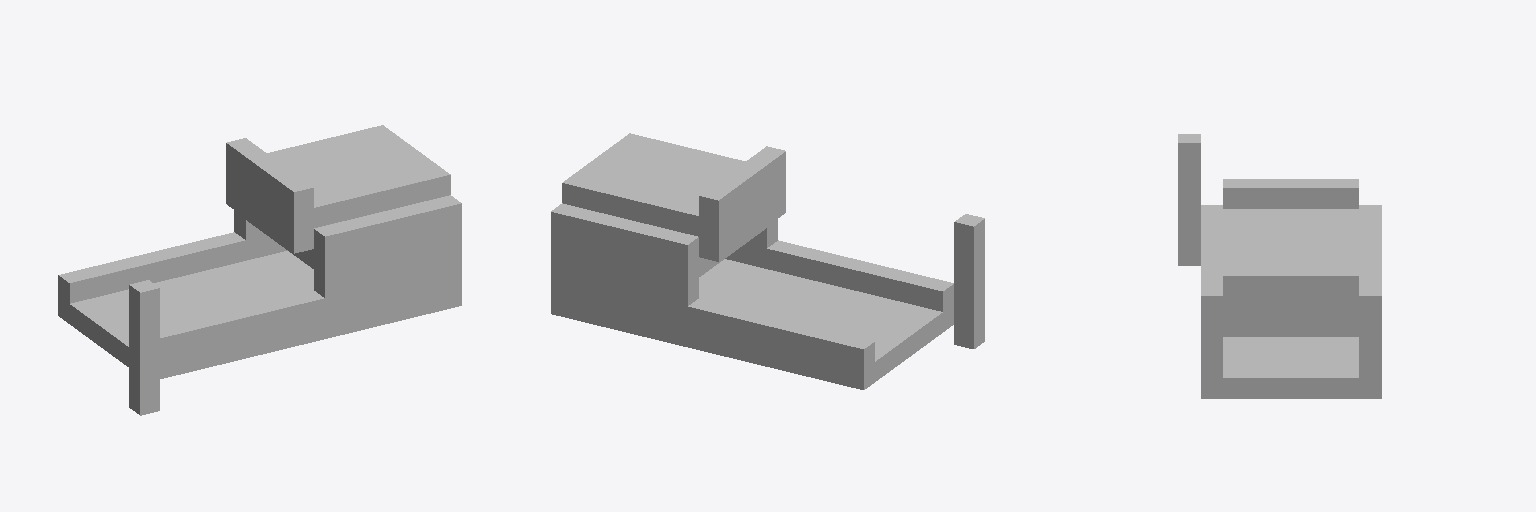
File: Rubber .obj
The picture shows the model from 3 angles: view 1: azimuth 30°, elevation 25°; view 2: azimuth 150°, elevation 25°; view 3: azimuth 270°, elevation 25°; orthographic projection.
Parts seen in each view (by area): view 1: object 1; view 2: object 1; view 3: object 1.
Boxes of the visible parts, x1=… form: object 1: x1=58, y1=125, x2=461, y2=415; object 1: x1=551, y1=133, x2=984, y2=389; object 1: x1=1178, y1=134, x2=1381, y2=398.
Bounding box in the file's own units: 1.7 × 0.8 × 0.9.